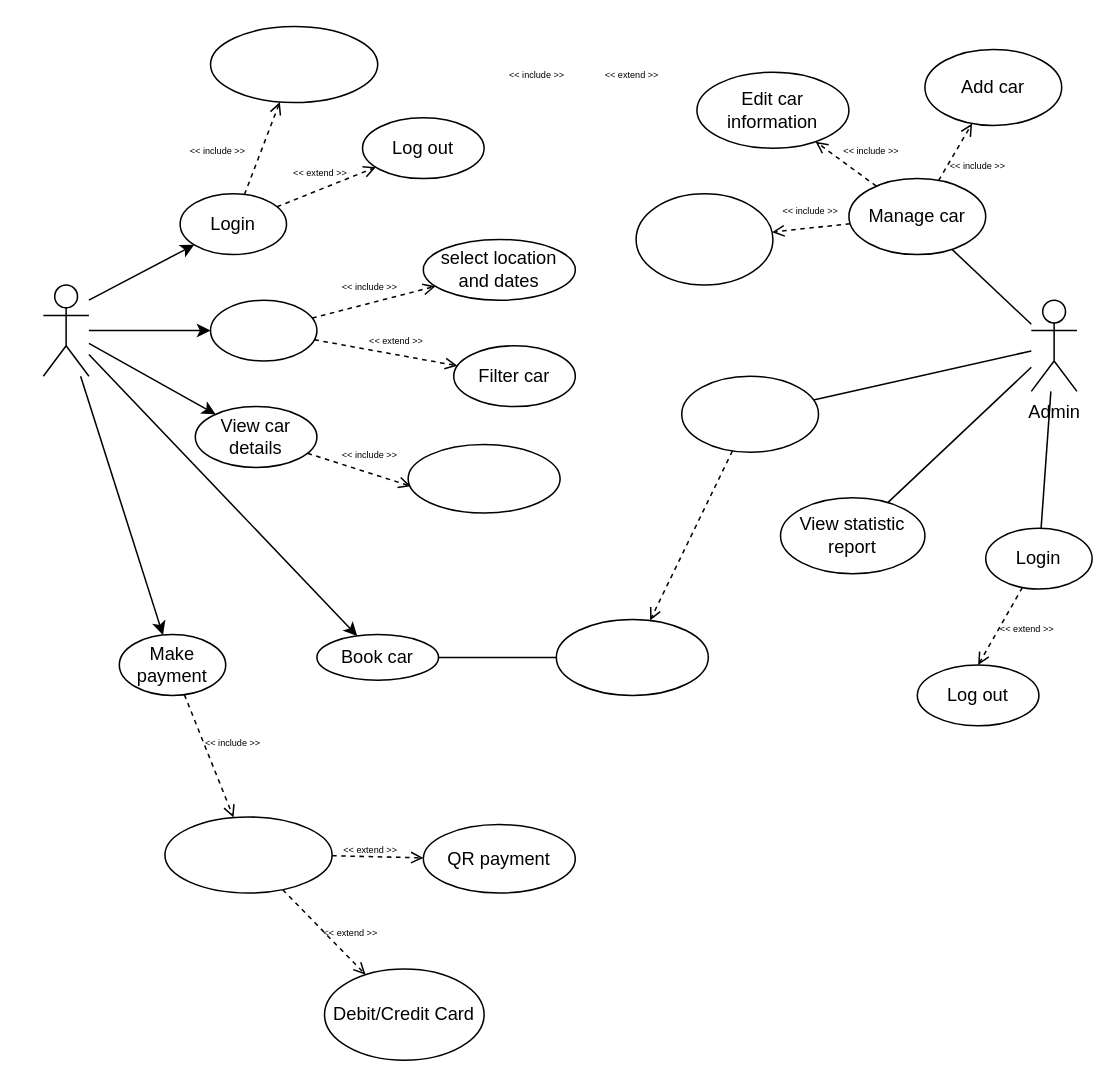
Some shapes in this 1119 by 1087 pixel diagram are drawn without their labels. Here are the shapes that lost their labels. From the top down, the centre of each, then its label:
point 293,64: Register Account
point 704,238: Remove car
point 65,329: Customer
point 263,330: Search car
point 749,413: Manage booking
point 483,478: Add car to booking list
point 631,656: accept/reject booking request
point 247,854: Select payment method
